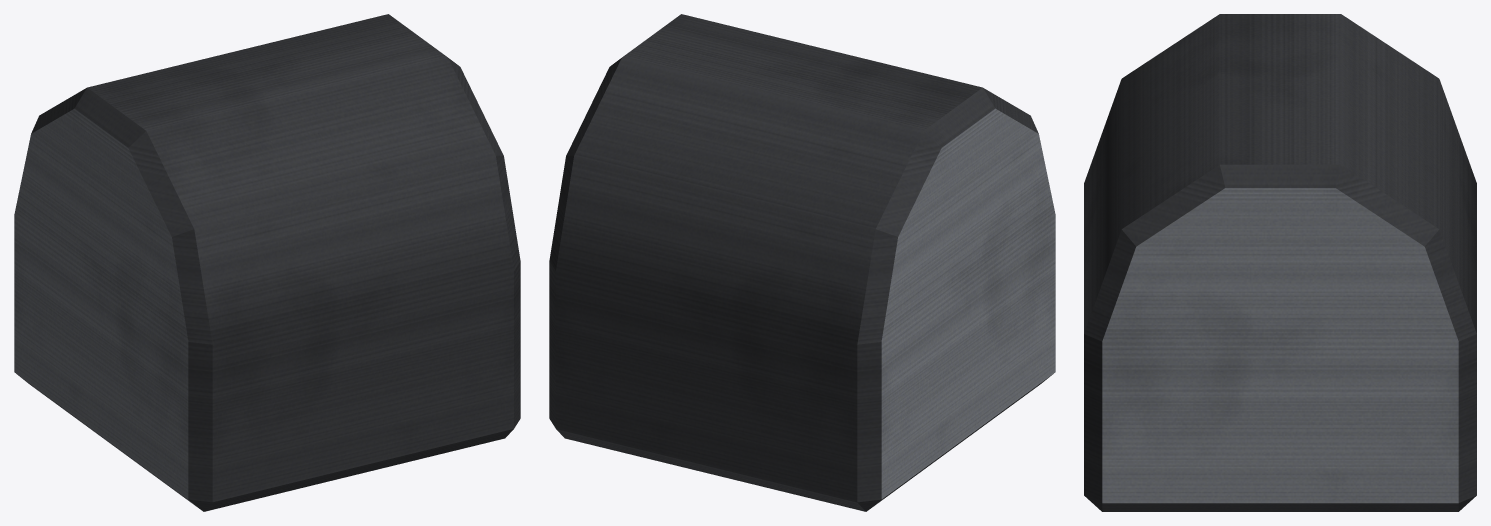
Rendered from R4B_RoundTop_LOD1.glb.
3 views of the same model, side by side, from view 1: azimuth 30°, elevation 25°; view 2: azimuth 150°, elevation 25°; view 3: azimuth 270°, elevation 25° (orthographic). The views are drawn at different scales.
Visible parts, largest first — view 1: R4B_RoundTop_LOD1; view 2: R4B_RoundTop_LOD1; view 3: R4B_RoundTop_LOD1.
Part boxes in pixels (x1=…): R4B_RoundTop_LOD1: x1=14, y1=14, x2=520, y2=511; R4B_RoundTop_LOD1: x1=549, y1=14, x2=1055, y2=511; R4B_RoundTop_LOD1: x1=1084, y1=14, x2=1476, y2=511.
Bounding box in the file's own units: 0.52 × 0.5073 × 0.52.
Materials: 2 (2 with a texture image).
